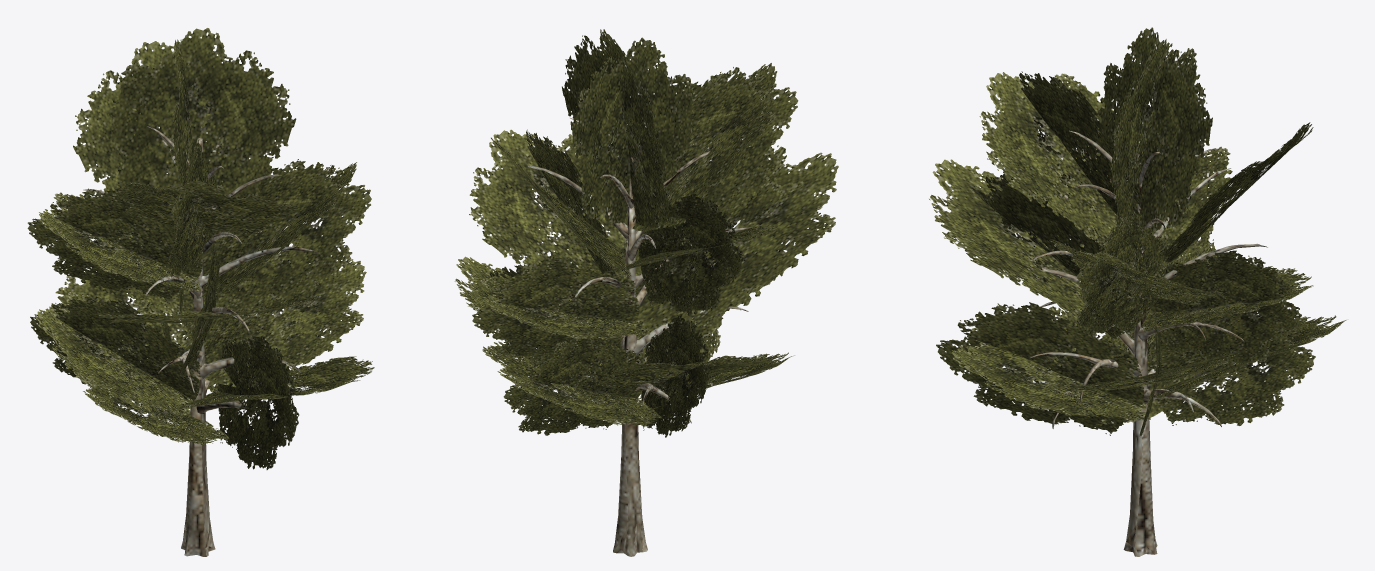
File: SM_Tree_02.fbx
3 renders of one model, left to right at view 1: azimuth 30°, elevation 25°; view 2: azimuth 150°, elevation 25°; view 3: azimuth 270°, elevation 25°, orthographic.
Parts seen in each view (by area): view 1: SM_Tree_02; view 2: SM_Tree_02; view 3: SM_Tree_02.
Boxes of the visible parts, bbox=[...] form: SM_Tree_02: bbox=[27, 28, 374, 556]; SM_Tree_02: bbox=[454, 29, 838, 556]; SM_Tree_02: bbox=[929, 27, 1346, 556].
Bounding box in the file's own units: 631 × 746 × 945.
Materials: 2 (2 with a texture image).
